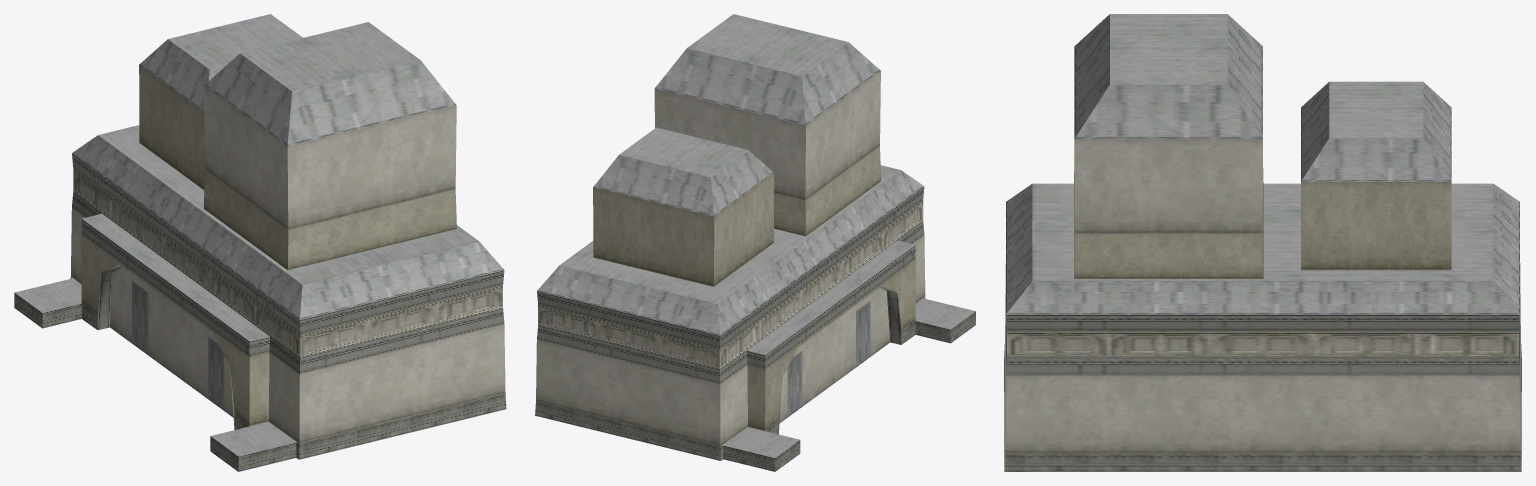
The model's file is thm_corl_imprv_historic_24x16_s02_l3.fbx.
The picture shows the model from 3 angles, left to right: view 1: azimuth 30°, elevation 25°; view 2: azimuth 150°, elevation 25°; view 3: azimuth 270°, elevation 25°; orthographic projection. The views are drawn at different scales.
Visible parts, largest first — view 1: mesh_node; view 2: mesh_node; view 3: mesh_node.
Part boxes in pixels (x1,y1,x2,y2): mesh_node: [14, 14, 506, 471]; mesh_node: [535, 14, 975, 471]; mesh_node: [1004, 14, 1521, 471].
Bounding box in the file's own units: 14.39 × 16.8 × 21.55.
